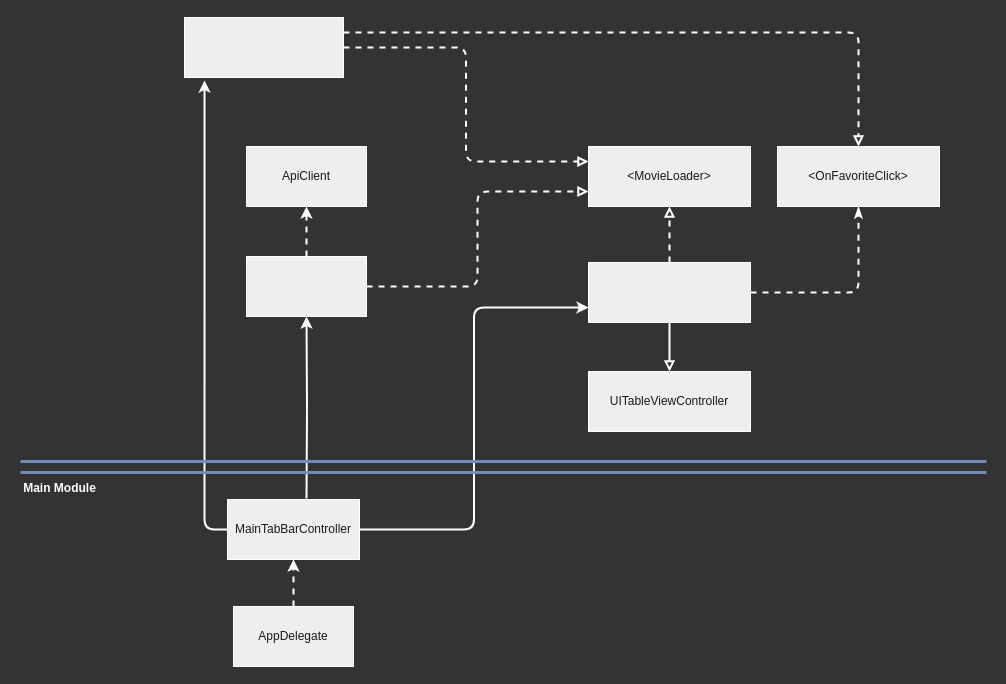
Some shapes in this 1006 by 684 pixel diagram are drawn without their labels. Each missing label, with the centre of its shape:
"MovieListAdapter" belongs at point 306,286.
"MovieListFavoriteAdapter" belongs at point 264,47.
"MovieListViewController" belongs at point 669,292.
